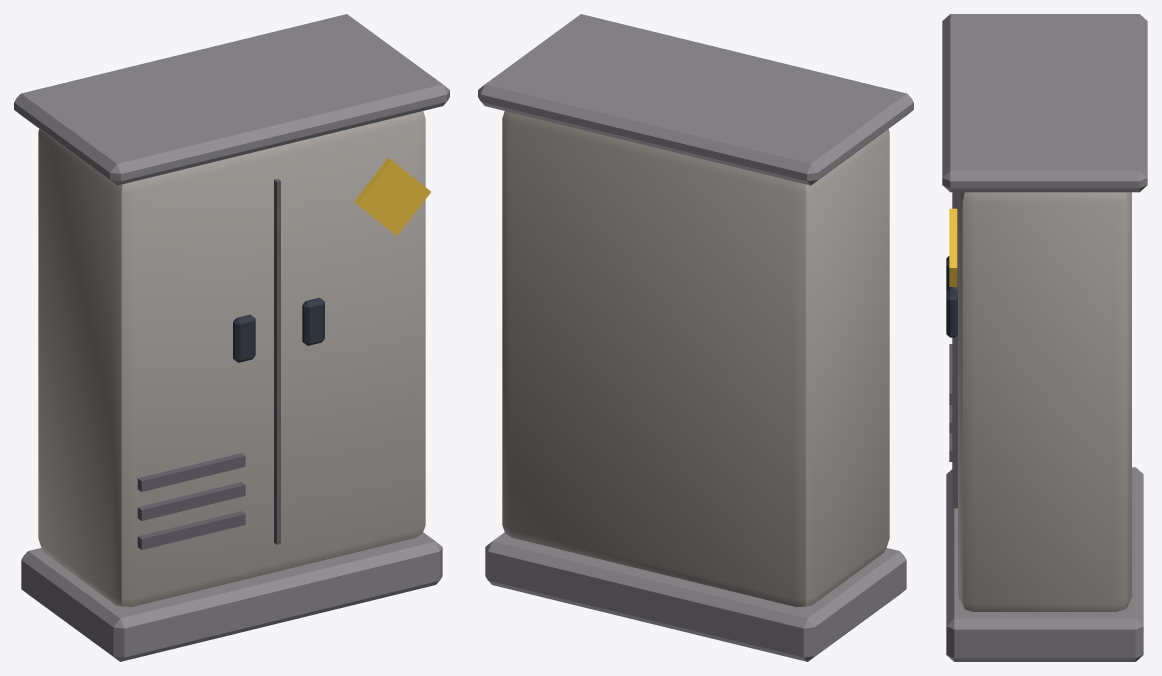
File: utility_box.glb
3 views of the same model, side by side, from view 1: azimuth 30°, elevation 25°; view 2: azimuth 150°, elevation 25°; view 3: azimuth 270°, elevation 25° (orthographic).
Parts seen in each view (by area): view 1: utility_box; view 2: utility_box; view 3: utility_box.
Boxes of the visible parts, x1=… form: utility_box: x1=14, y1=14, x2=449, y2=661; utility_box: x1=478, y1=14, x2=913, y2=661; utility_box: x1=942, y1=14, x2=1147, y2=661.
Bounding box in the file's own units: 0.98 × 1.38 × 0.52.
Materials: 1 (1 with a texture image).
